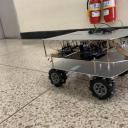cart: (41, 28, 127, 102)
